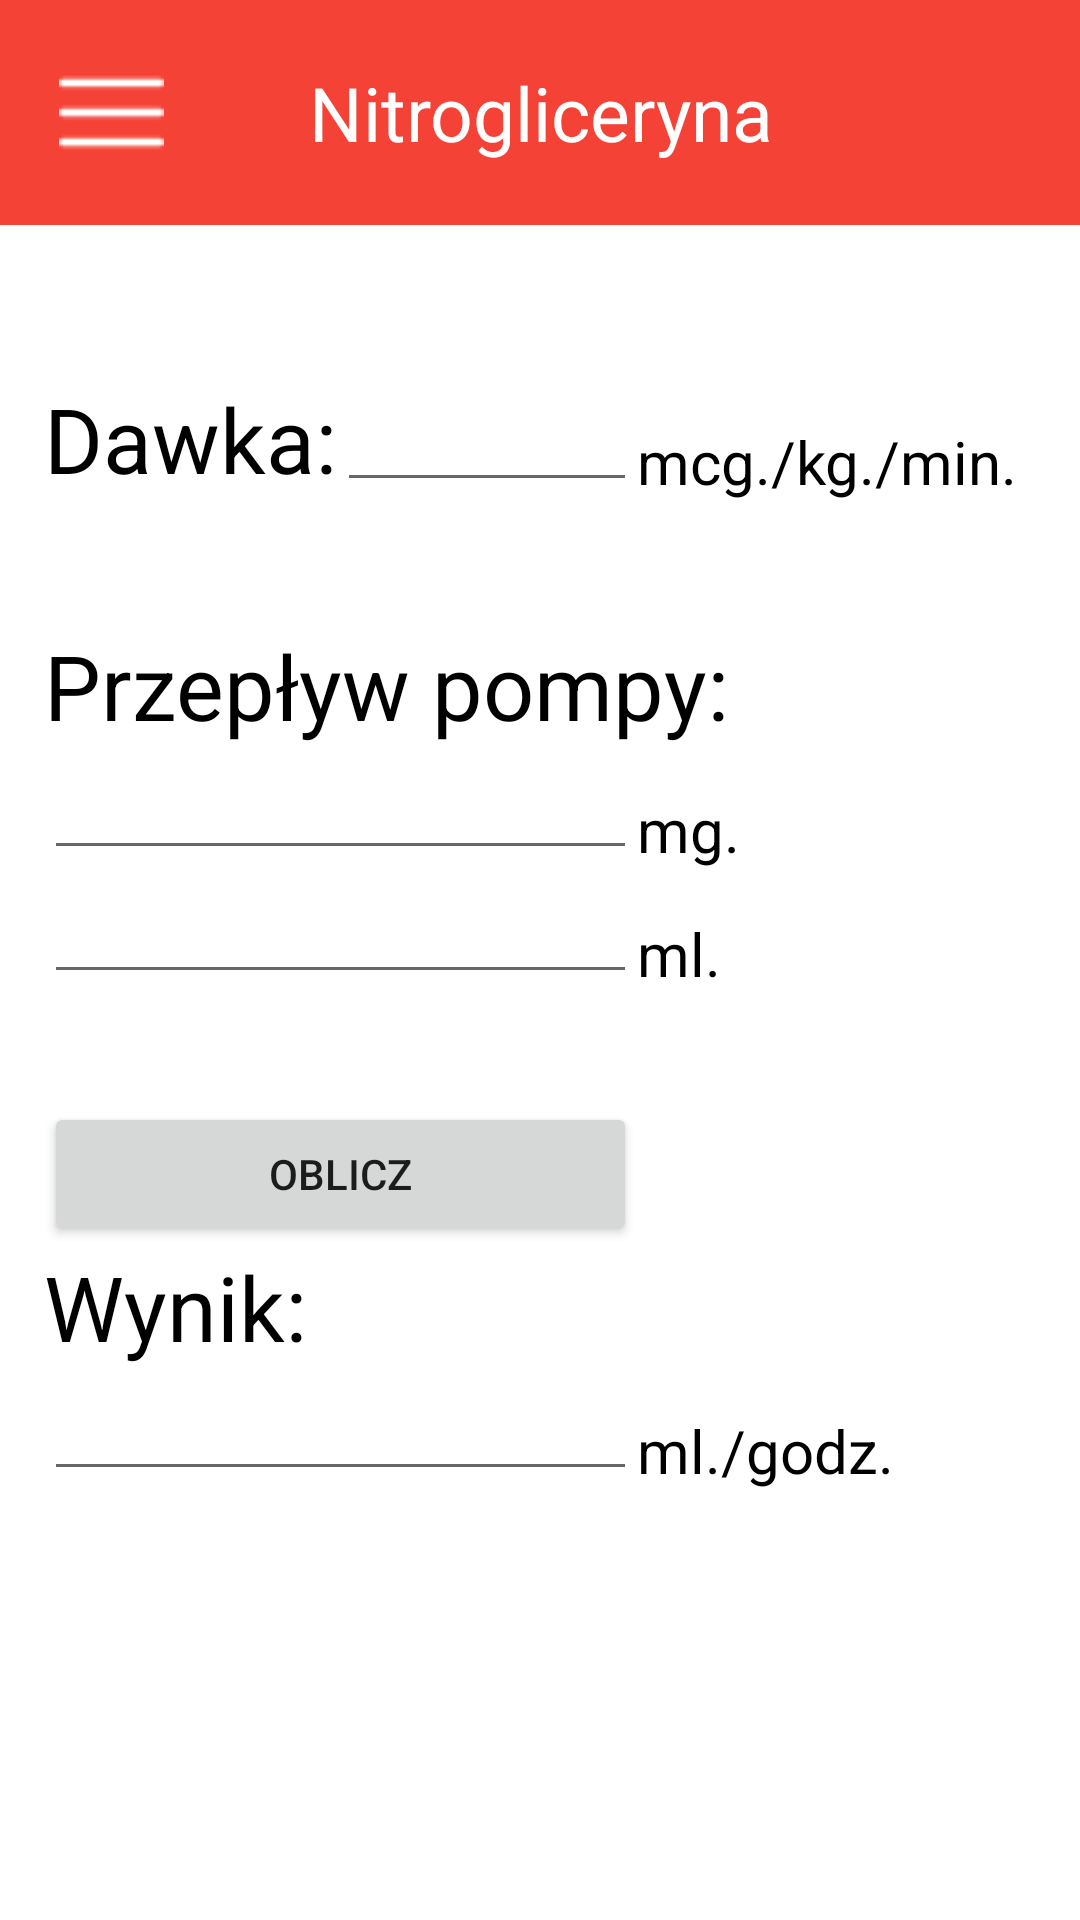

Screen size 1080px x 1920px. Icon name, then its center in pixels as point (x, y):
open: point (111, 112)
